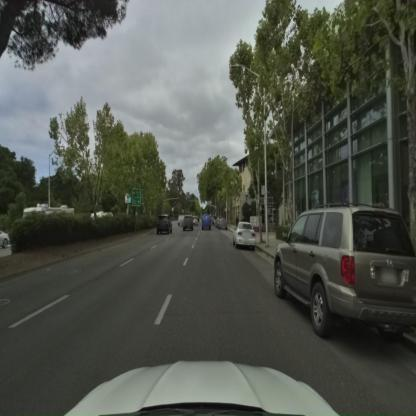car: (271, 204, 416, 352), (232, 223, 256, 250), (155, 215, 172, 234), (180, 216, 198, 232), (213, 216, 227, 230), (0, 229, 10, 248), (201, 215, 211, 231)
